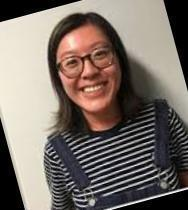Drunk: (56, 35, 118, 109)
